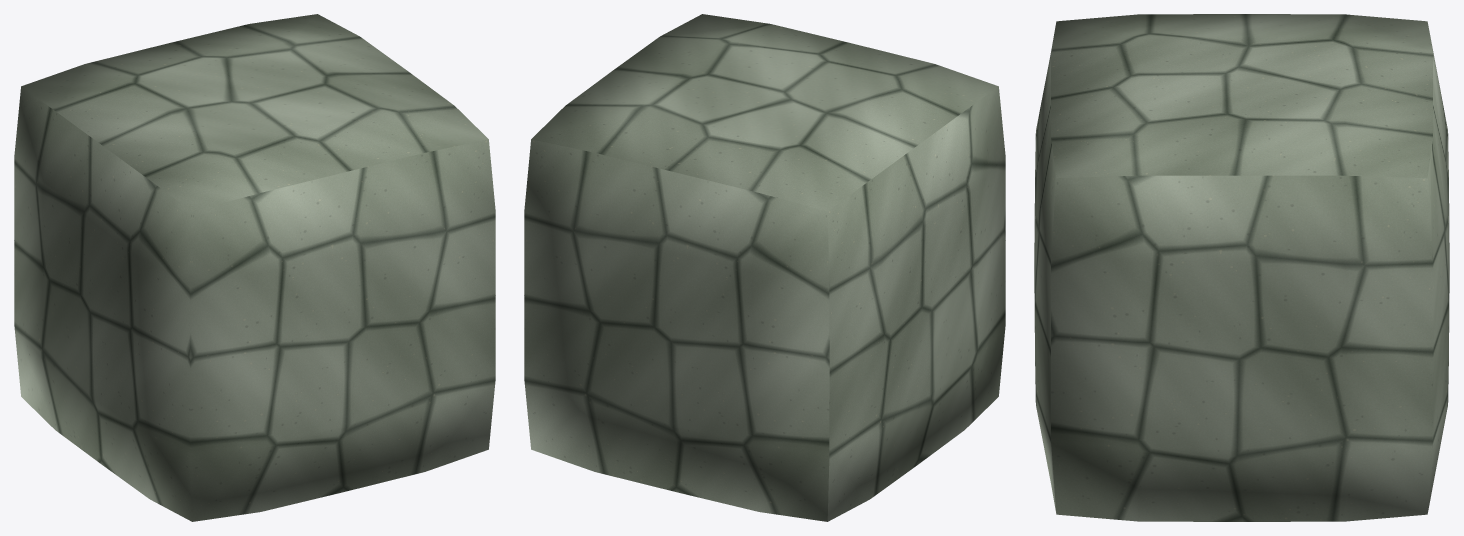
File: cobble_single.glb
The picture shows the model from 3 angles, left to right: view 1: azimuth 30°, elevation 25°; view 2: azimuth 150°, elevation 25°; view 3: azimuth 270°, elevation 25°; orthographic projection. The views are drawn at different scales.
Parts seen in each view (by area): view 1: cobble_single; view 2: cobble_single; view 3: cobble_single.
Boxes of the visible parts, <box> form: cobble_single: <box>14,14,495,521</box>; cobble_single: <box>524,14,1005,521</box>; cobble_single: <box>1034,14,1449,521</box>.
Bounding box in the file's own units: 1 × 1 × 1.
2 materials, 2 textured.
